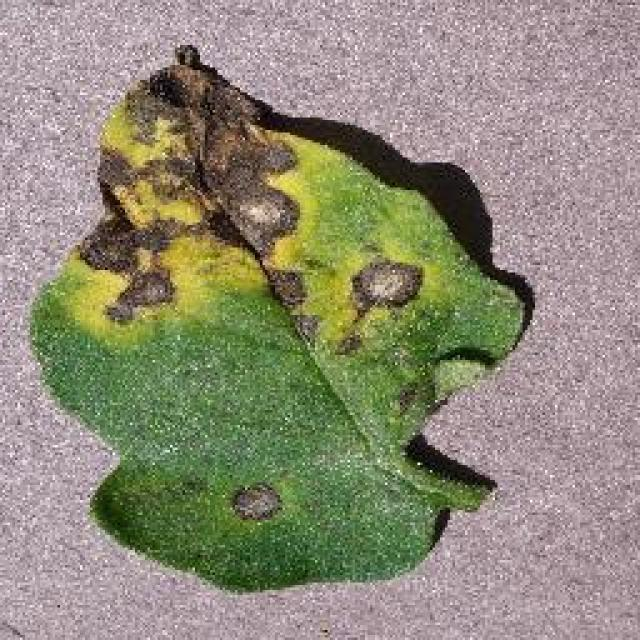Tomato Septoria spot leaf: (33, 44, 526, 594)
